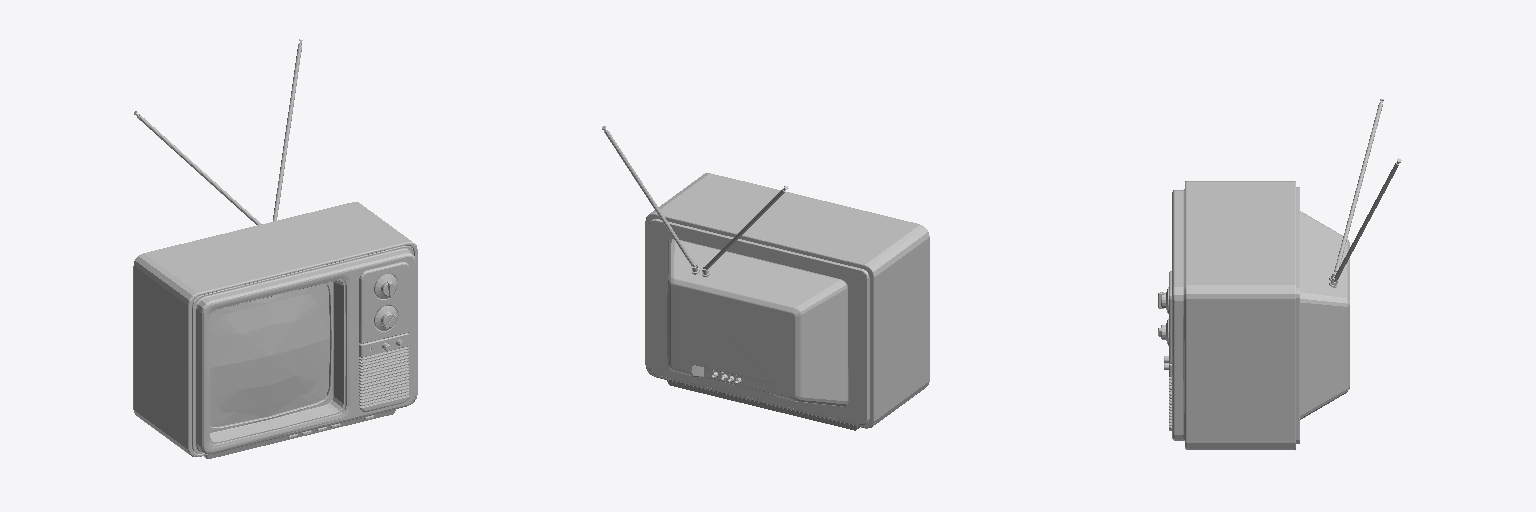
3 views of the same model, side by side, from view 1: azimuth 30°, elevation 25°; view 2: azimuth 150°, elevation 25°; view 3: azimuth 270°, elevation 25° (orthographic).
Visible parts, largest first — view 1: V-Tv; view 2: V-Tv; view 3: V-Tv.
Part boxes in pixels (x1,y1,x2,y2): V-Tv: (133, 39, 417, 458); V-Tv: (602, 126, 929, 430); V-Tv: (1158, 99, 1401, 449).
Bounding box in the file's own units: 0.871 × 1.07 × 0.798.